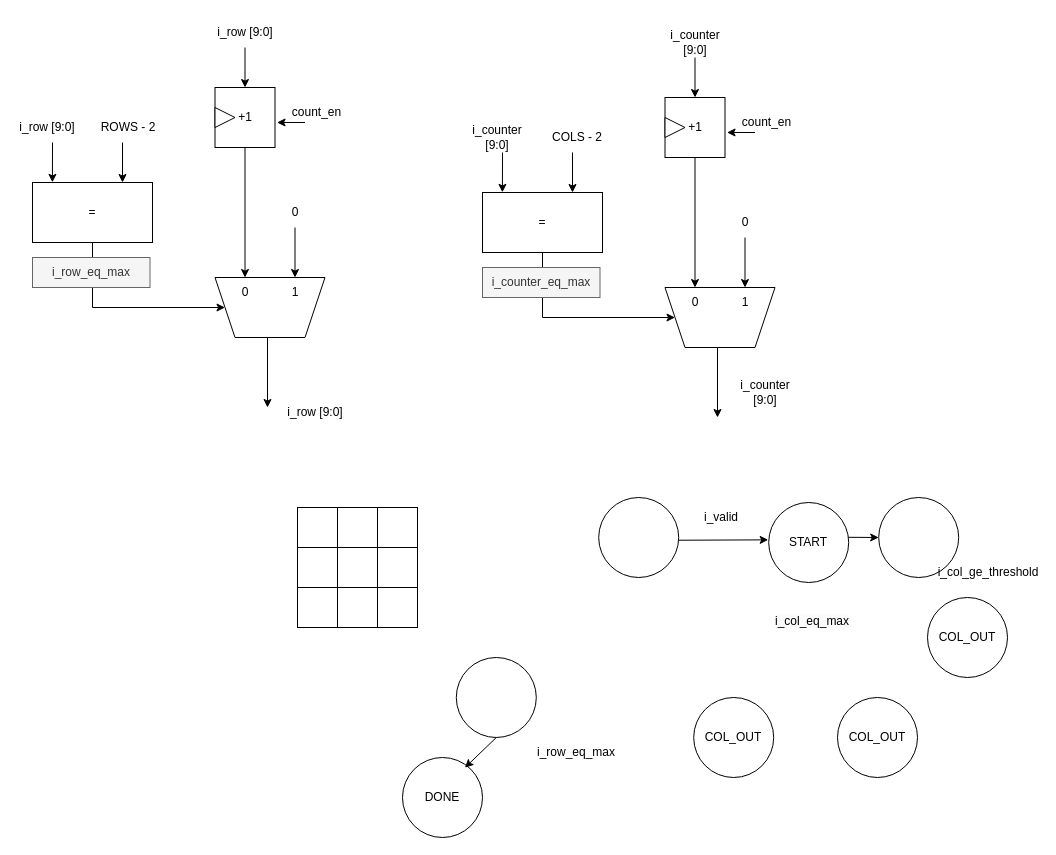
This 1056x855 diagram has some shape labels left out. The centre of each missing label's shape, as x and y in pixels:
FINISH_ALL: the point at 495,697
IDLE: the point at 638,537
START_COL: the point at 918,537
